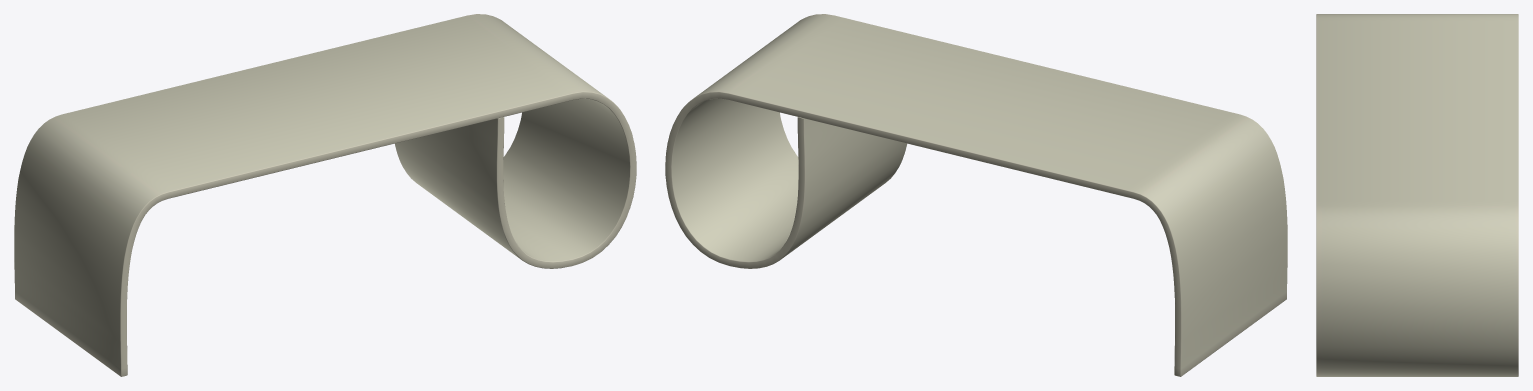
The model's file is scan_low_table_draco.glb.
3 views of the same model, side by side, from view 1: azimuth 30°, elevation 25°; view 2: azimuth 150°, elevation 25°; view 3: azimuth 270°, elevation 25° (orthographic). The views are drawn at different scales.
Visible parts, largest first — view 1: Table Basse_0; view 2: Table Basse_0; view 3: Table Basse_0.
Part boxes in pixels (<box>): Table Basse_0: <box>14,14,636,376</box>; Table Basse_0: <box>665,14,1287,376</box>; Table Basse_0: <box>1316,14,1518,376</box>.
Bounding box in the file's own units: 1.4 × 0.45 × 0.5.
1 material, 1 textured.
